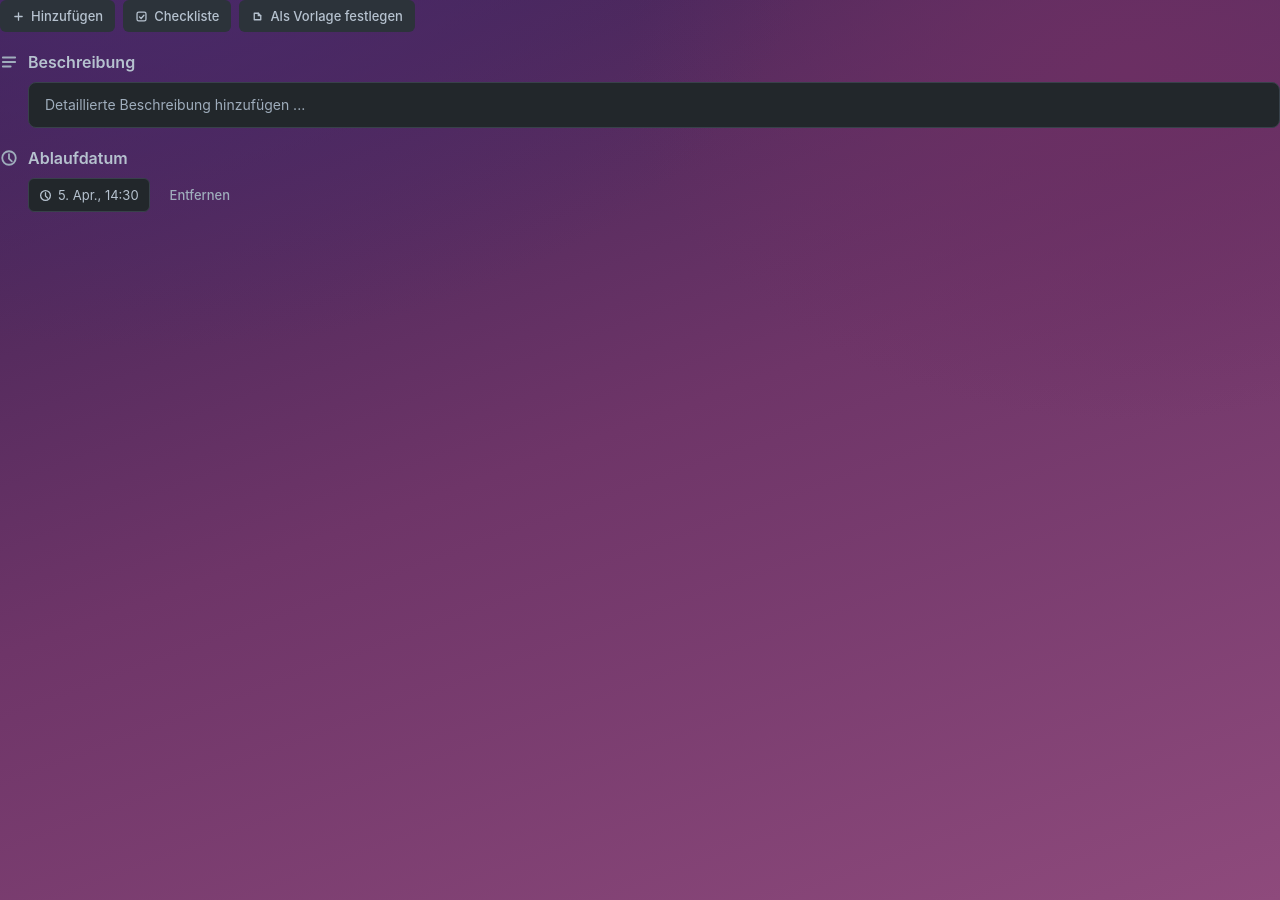
Test: CardCoreEditor › renders an existing due date into the pill and back into the picker
Click the button with aria-label "Ablaufdatum": (89, 195) [28, 178, 150, 212]
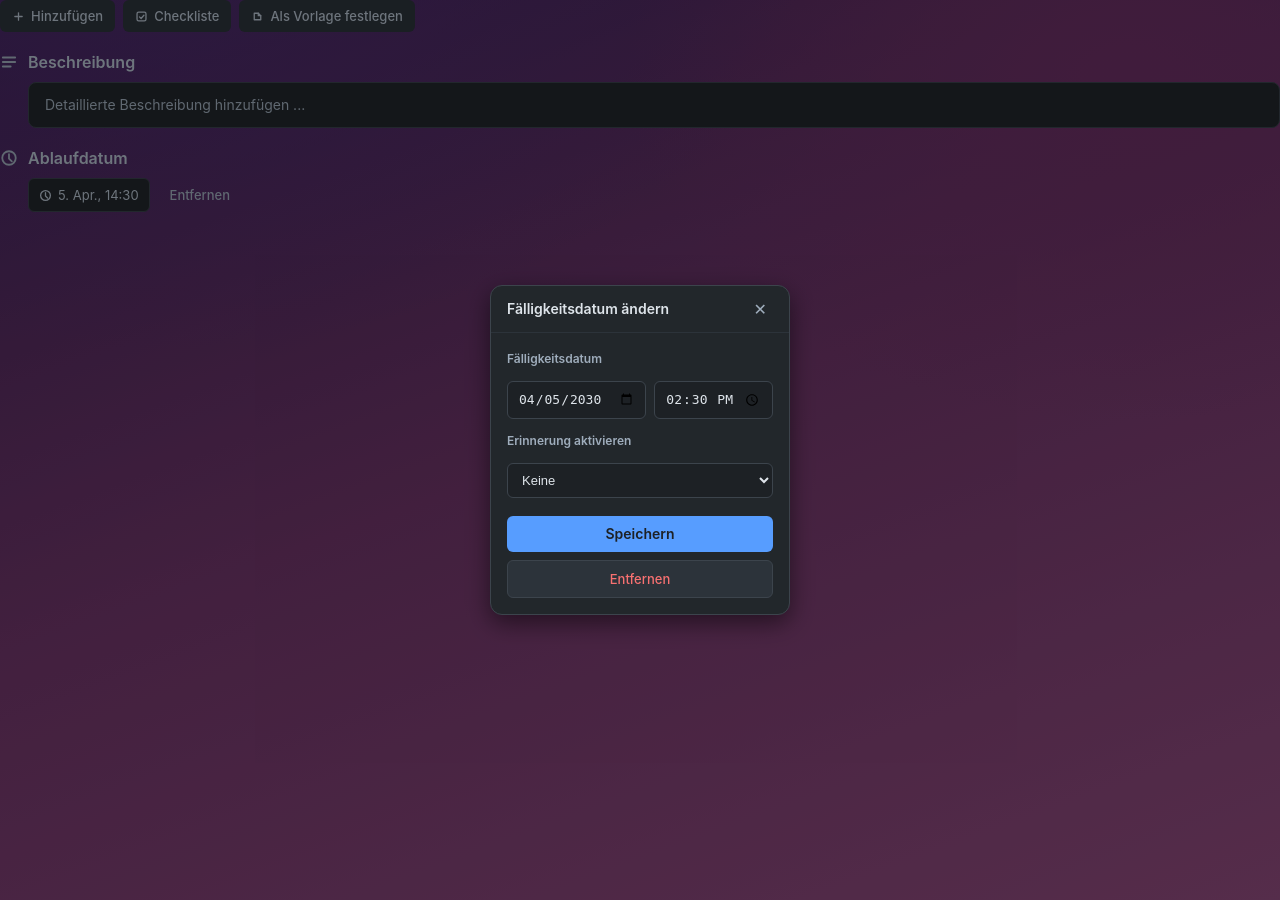
Expected: the date field labelled "Fälligkeitsdatum" holds "2030-04-05", [507, 381, 646, 419]
Expected: the time field with class "time-input" holds "14:30", [654, 381, 773, 419]
